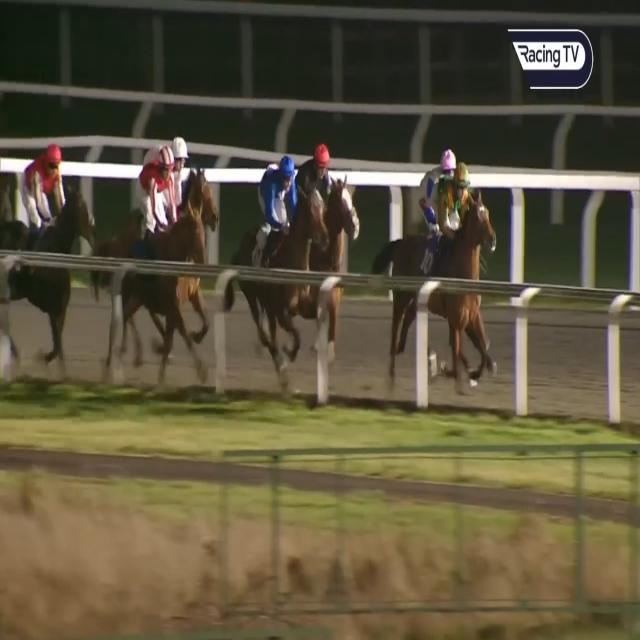horses-racing: (386, 172, 506, 367), (114, 143, 210, 341), (14, 142, 98, 353), (238, 156, 328, 343), (294, 148, 358, 256), (165, 133, 217, 246), (414, 148, 464, 230)
